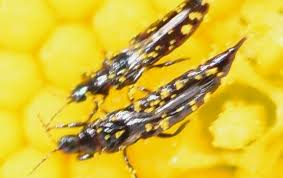Phlaeothripidae: (29, 34, 252, 176), (45, 1, 213, 123)
